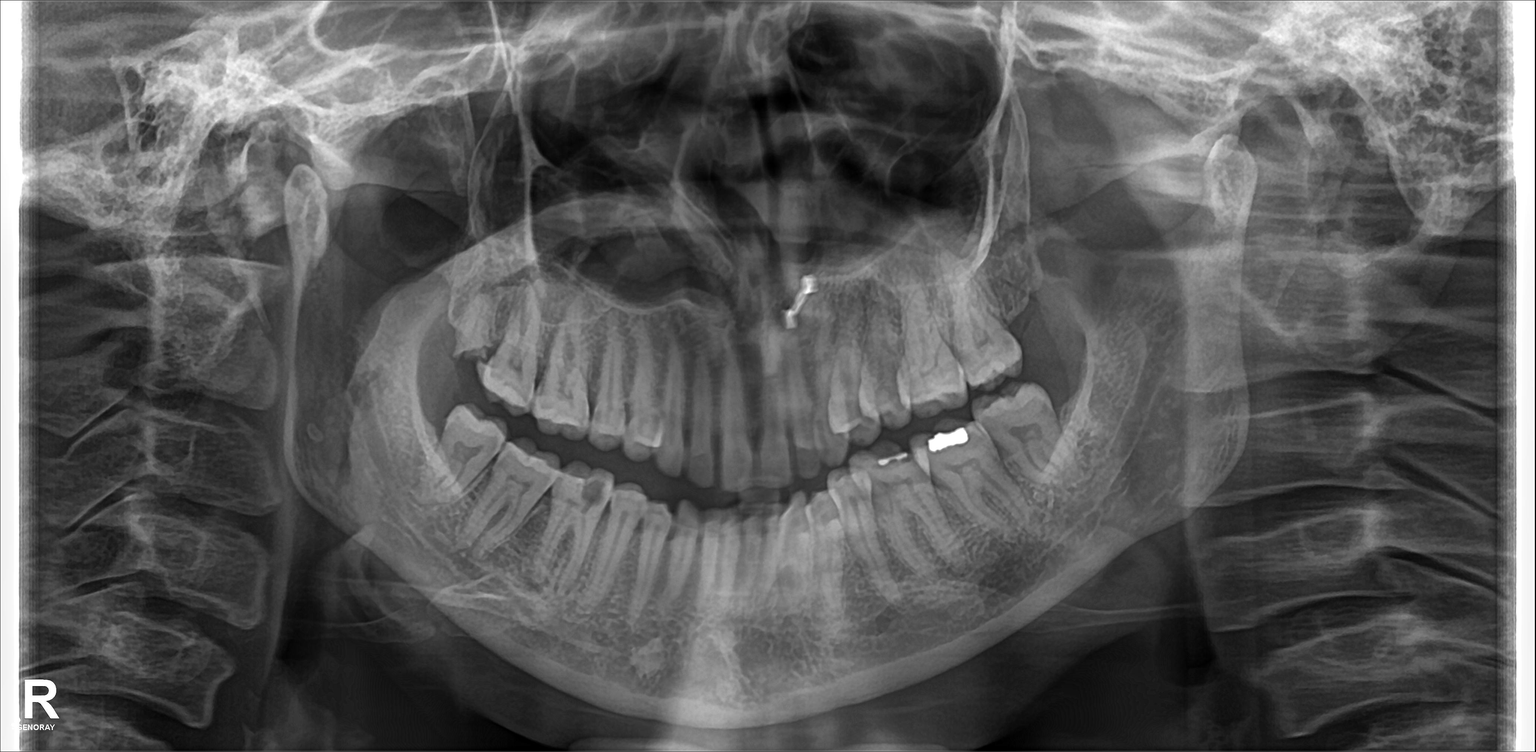Dental Caries: (570, 480, 608, 511)
Missing Tooth: (1004, 248, 1049, 353)
Retained Root: (426, 290, 480, 392)
